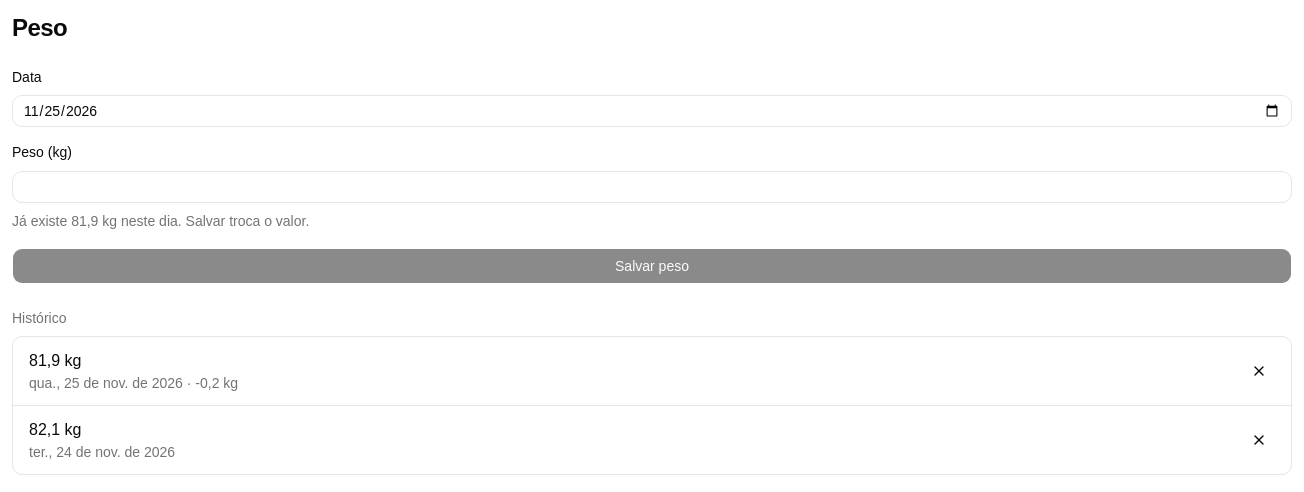
it: WeightPage › deletes a weight and removes it from the history
Click the button named "Apagar o peso de qua., 25 de nov. de 2026": (1259, 370) x1=1243 y1=354 x2=1275 y2=386
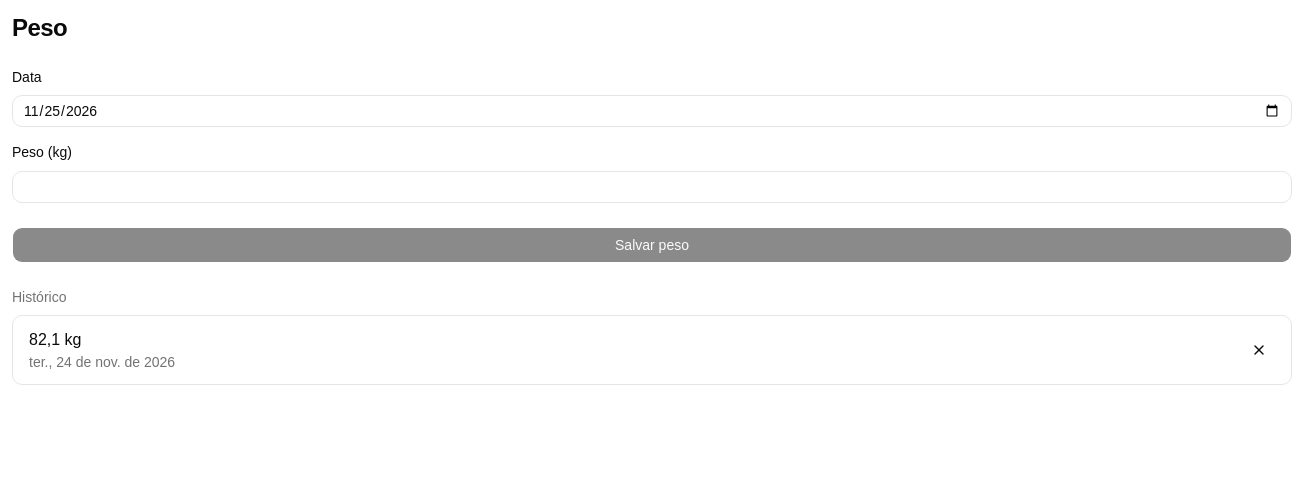
Check: the text "82,1 kg" is shown, box x1=29 y1=330 x2=82 y2=348
Check: the text "81,9 kg" is gone
